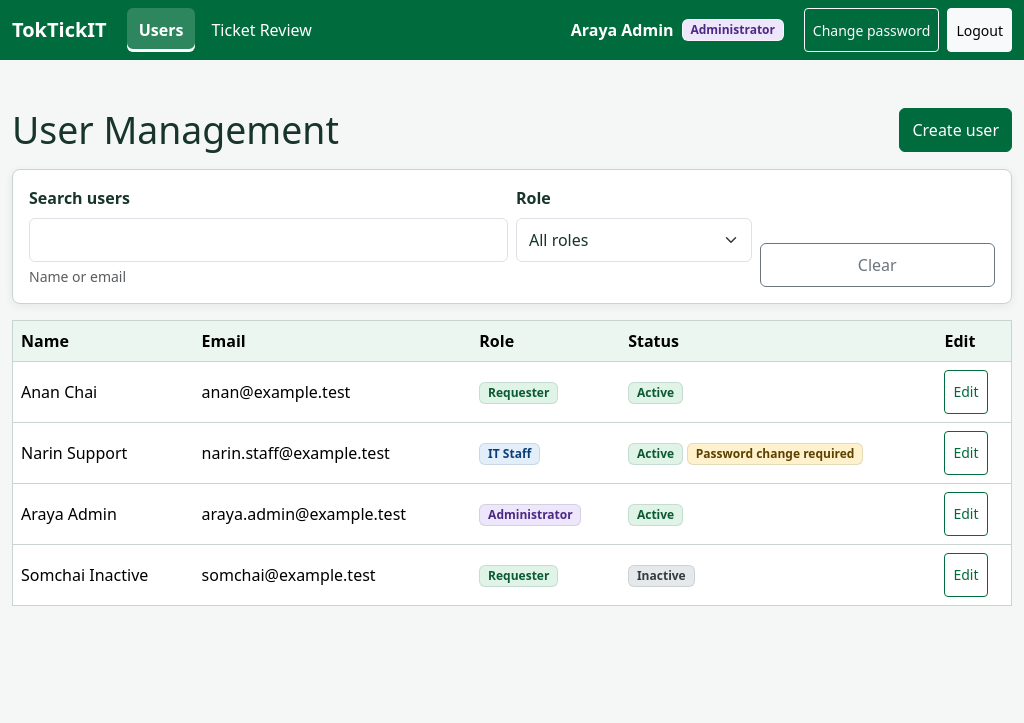
Test: UI-07 create user › creates a user with exactly one role and no password echo, then refreshes and reports success
expect the table is shown: met, box [12,320,1012,605]
Click the button "Create user". click: (956, 130)
box: [900,108,1012,152]
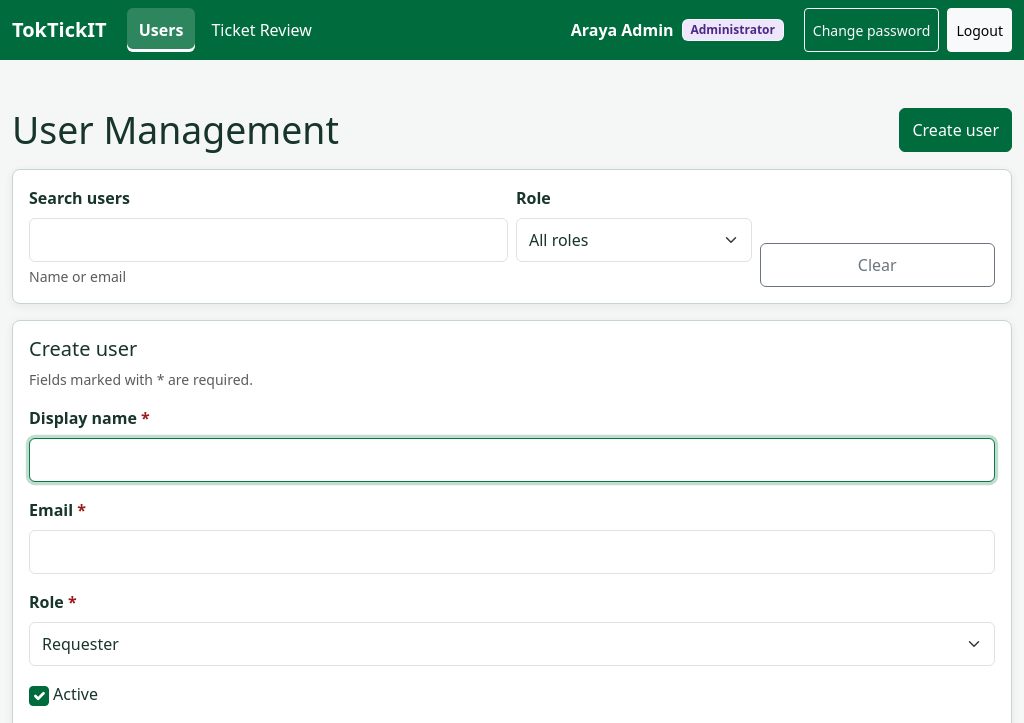
Type "Pim Support" into the field labelled "Display name". click: (512, 460)
box: [29,438,995,482]
Type "pim@example.test" into the field labelled "Email". click: (512, 552)
box: [29,530,995,574]
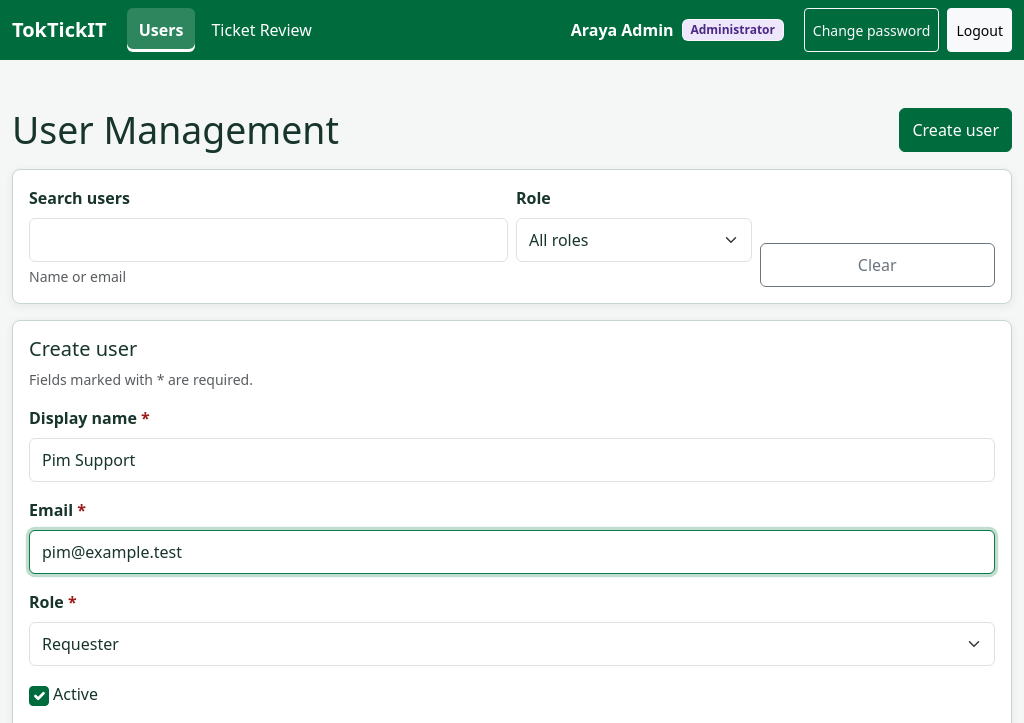
Select "IT Staff" in the dropdown labelled "Role" below "Display name". click: (512, 644)
box: [29,622,995,666]
(page scrolled)
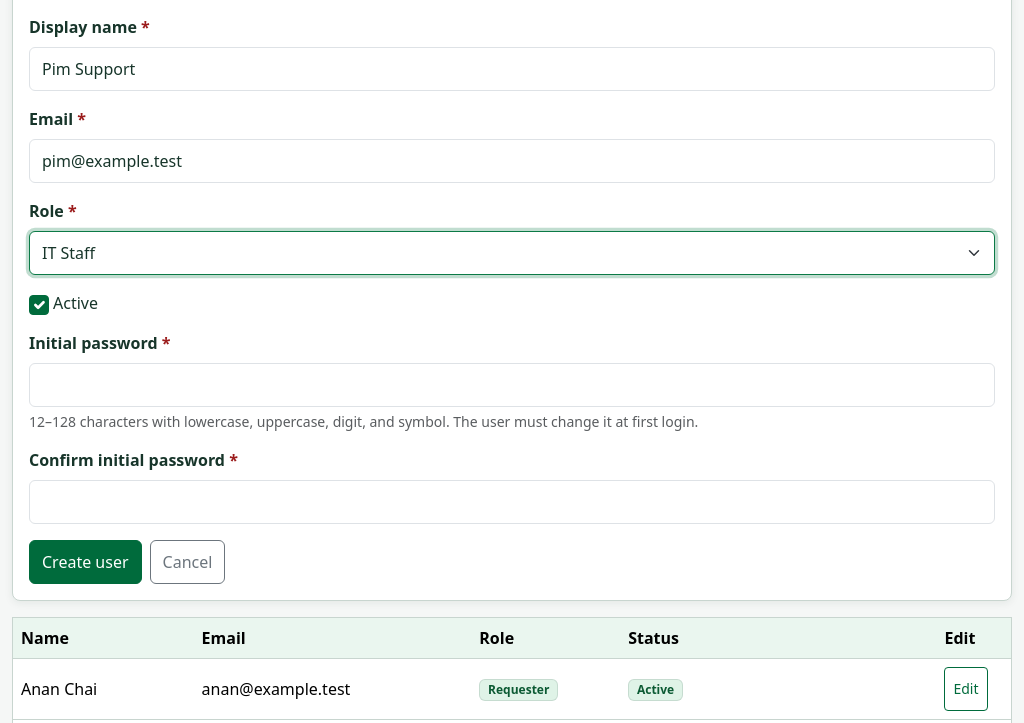
Type "Valid!Passw0rd-xyz" into the password field labelled "Initial password". click: (512, 385)
box: [29,363,995,407]
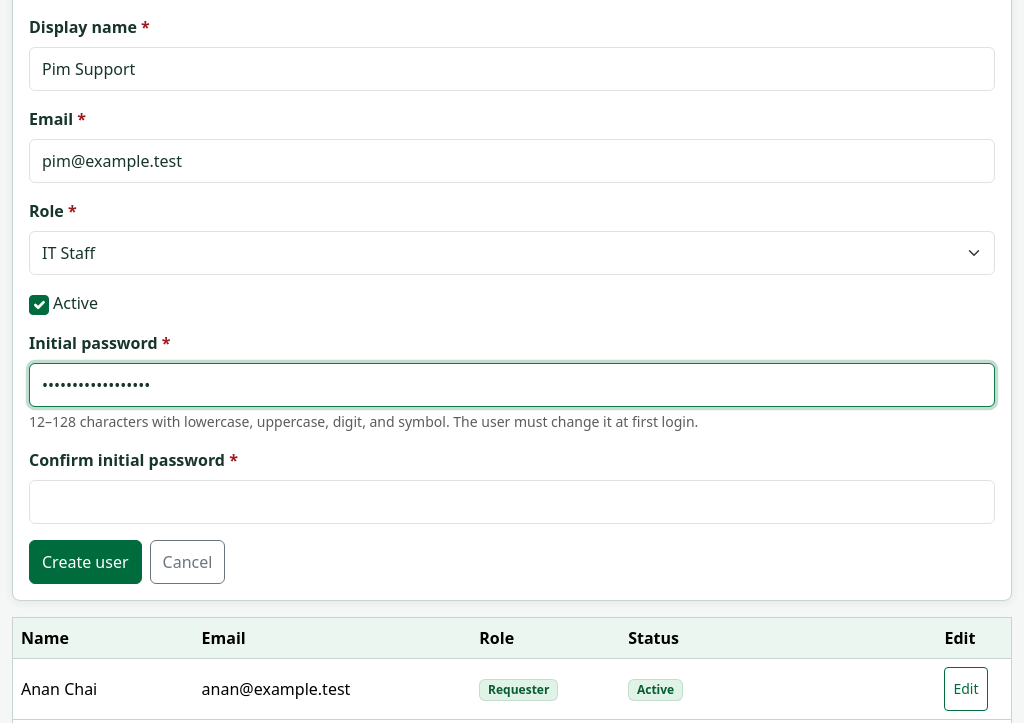
Type "Valid!Passw0rd-xyz" into the password field labelled "Confirm initial password". click: (512, 502)
box: [29,480,995,524]
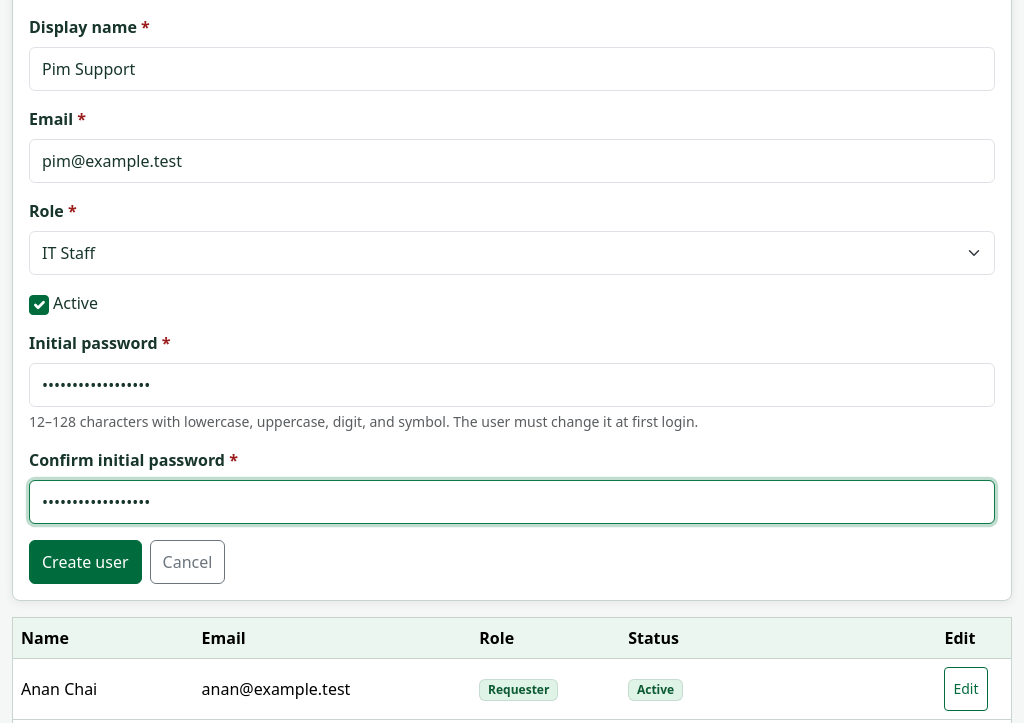
Click the button "Create user". click: (85, 562)
box: [29,540,142,584]
(page scrolled)
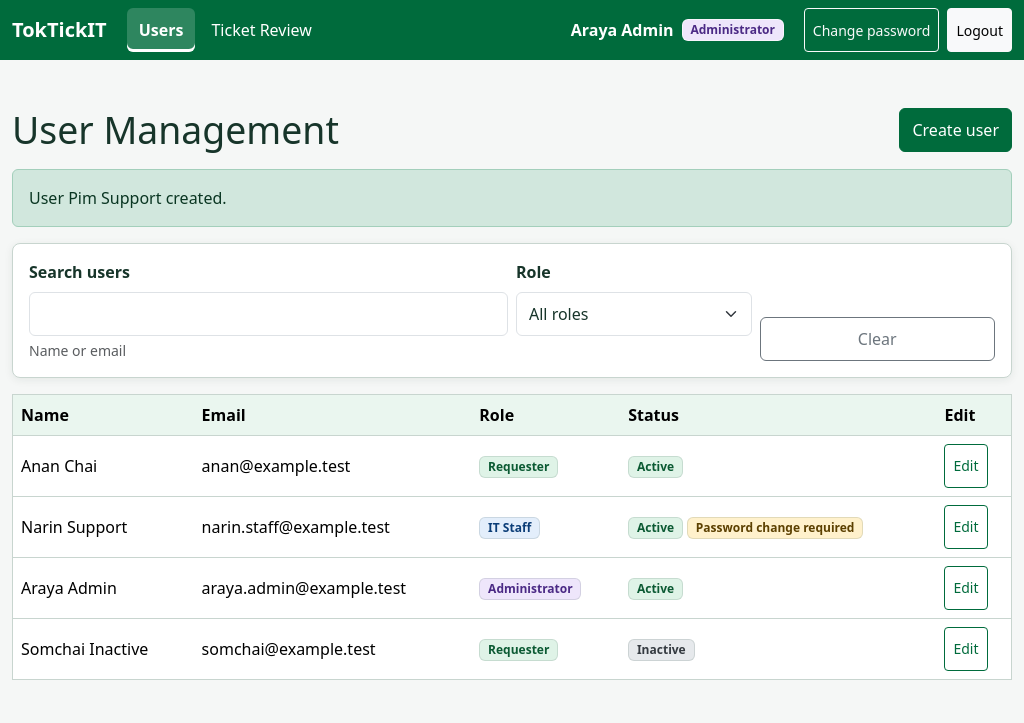
expect the text "User Pim Support created." is shown: met, box [12,169,1012,227]
expect the label labelled "Display name" is gone: met
